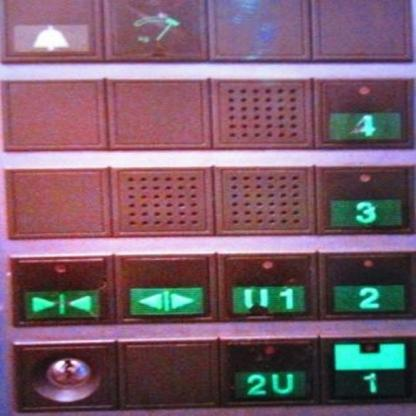1: (322, 336, 414, 405)
2: (322, 248, 414, 322)
2U: (216, 335, 320, 406)
3: (316, 165, 415, 234)
4: (314, 78, 414, 151)
U1: (219, 250, 318, 322)
alarm: (0, 0, 104, 62)
bt_keyhole: (8, 337, 117, 412)
close: (5, 253, 114, 326)
empty: (2, 166, 111, 240), (106, 79, 210, 151), (2, 79, 105, 150), (119, 337, 216, 409), (207, 0, 310, 61), (312, 0, 411, 62)
open: (114, 252, 216, 325)
speaker: (212, 164, 315, 237), (112, 165, 212, 239), (208, 79, 312, 150)
unknown: (103, 0, 206, 62)
